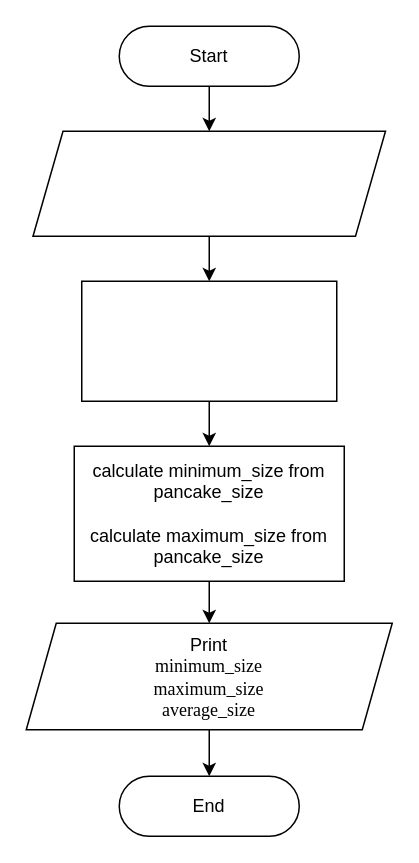
This 419x863 diagram has some shape labels left out. The centre of each missing label's shape, as x and y in pixels:
"Convert thickness to centimeter calculate pancake_size" belongs at pixel 208 340.
"Input diameter, thickness, date, customer_name" belongs at pixel 209 183.
